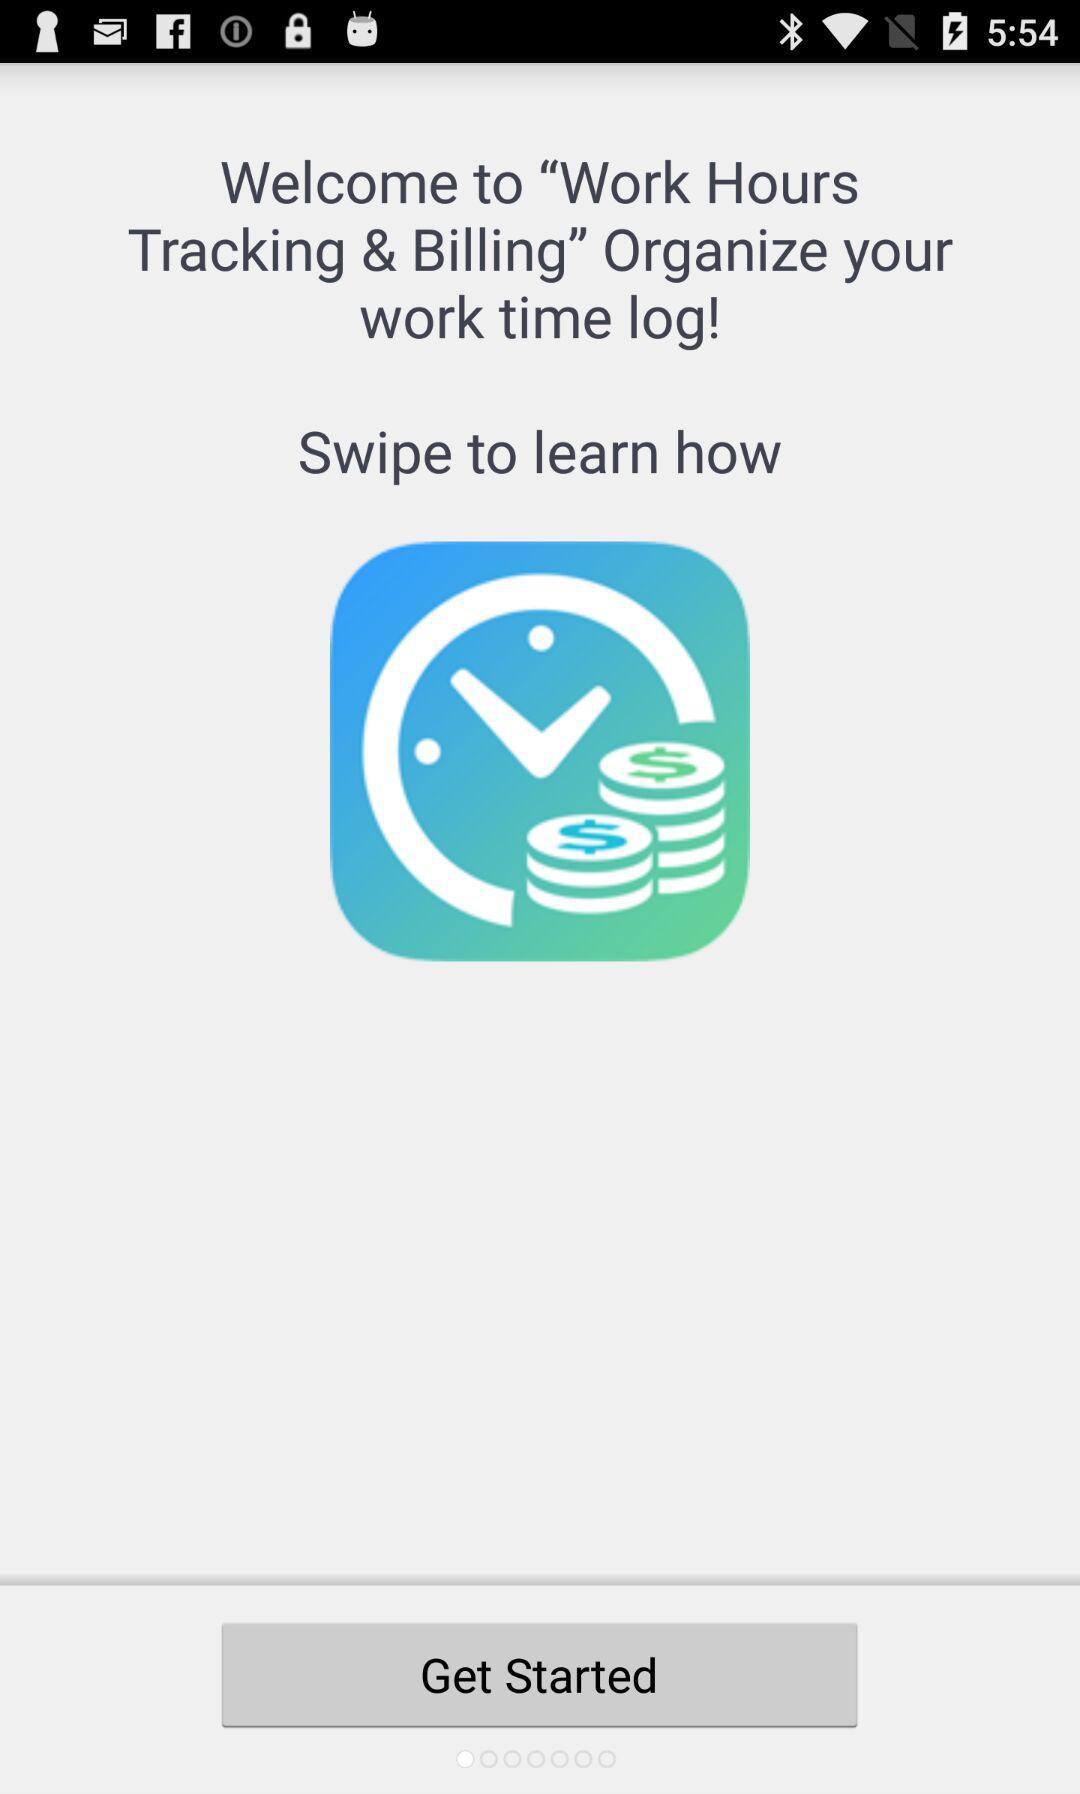Image: (329, 539, 752, 964)
PageIndicator: (455, 1748, 618, 1770)
Text: (127, 159, 954, 352), (299, 428, 783, 488)
TextButton: (222, 1622, 858, 1727)
UpperTaskBar: (1, 1, 1080, 64)
